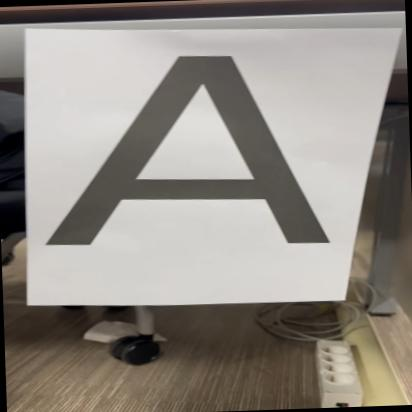seat: (42, 43, 344, 258)
